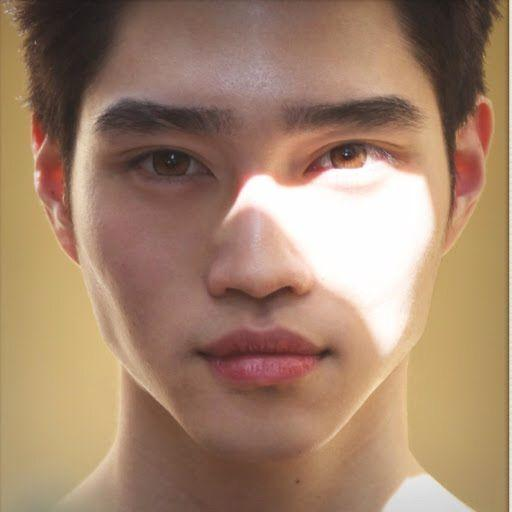left_lip_corner: (312, 342, 343, 365)
right_eye: (303, 138, 397, 180), (124, 144, 218, 185)
right_lip_corner: (185, 343, 215, 366)
